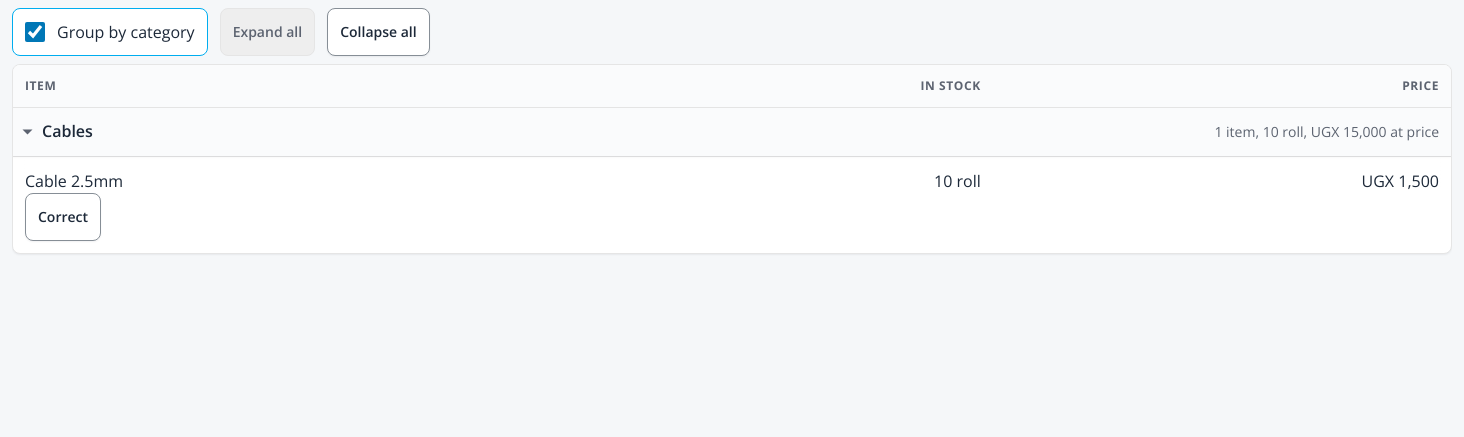
Test: the Correct button on a stock row › is offered on the list of one branch to someone who may correct there, and opens the choices
Click the button with aria-label "Correct Cable 2.5mm": (63, 217) [25, 193, 101, 241]
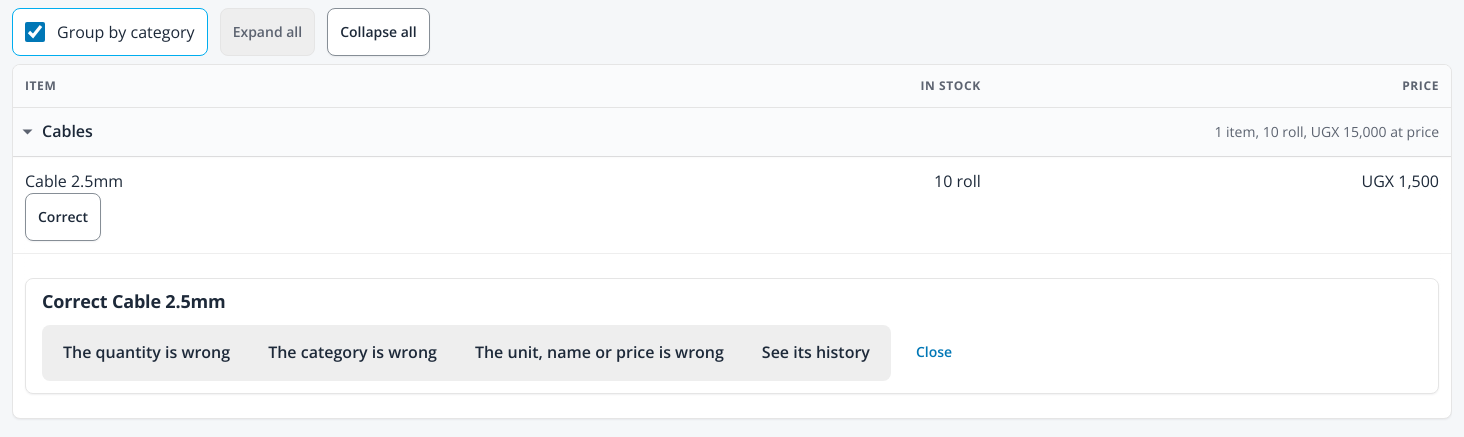
Now the element with test id "correct-item" is shown, box [25, 278, 1439, 394]
Now the radio button labelled "The quantity is wrong" is shown, box [46, 329, 247, 377]
Now the radio button labelled "The category is wrong" is shown, box [251, 329, 454, 377]
Click the button with aria-label "Correct Cable 2.5mm": (63, 217) [25, 193, 101, 241]
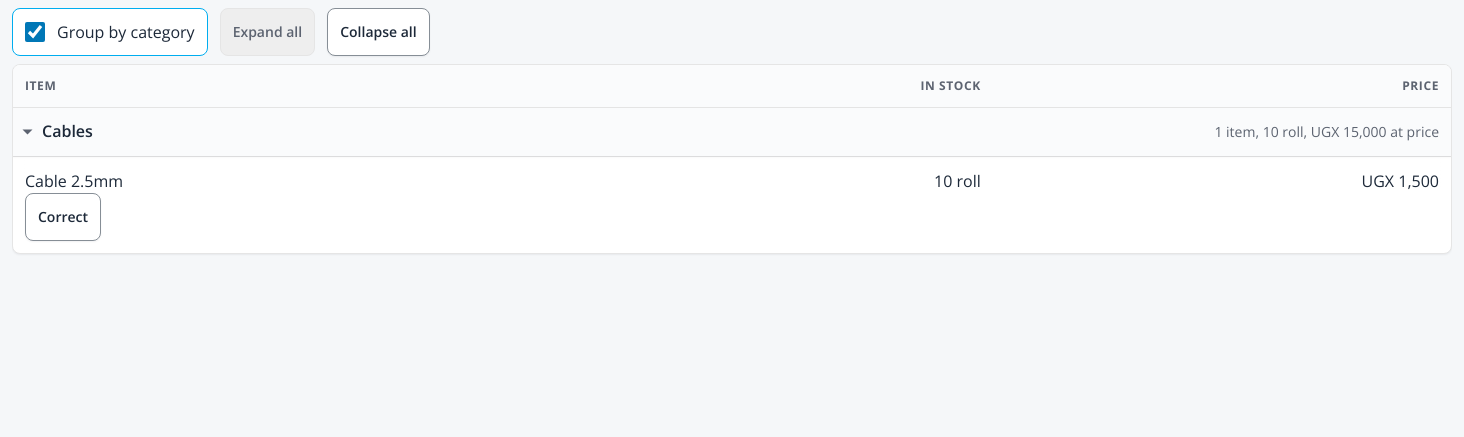
Now the element with test id "correct-item" is gone
